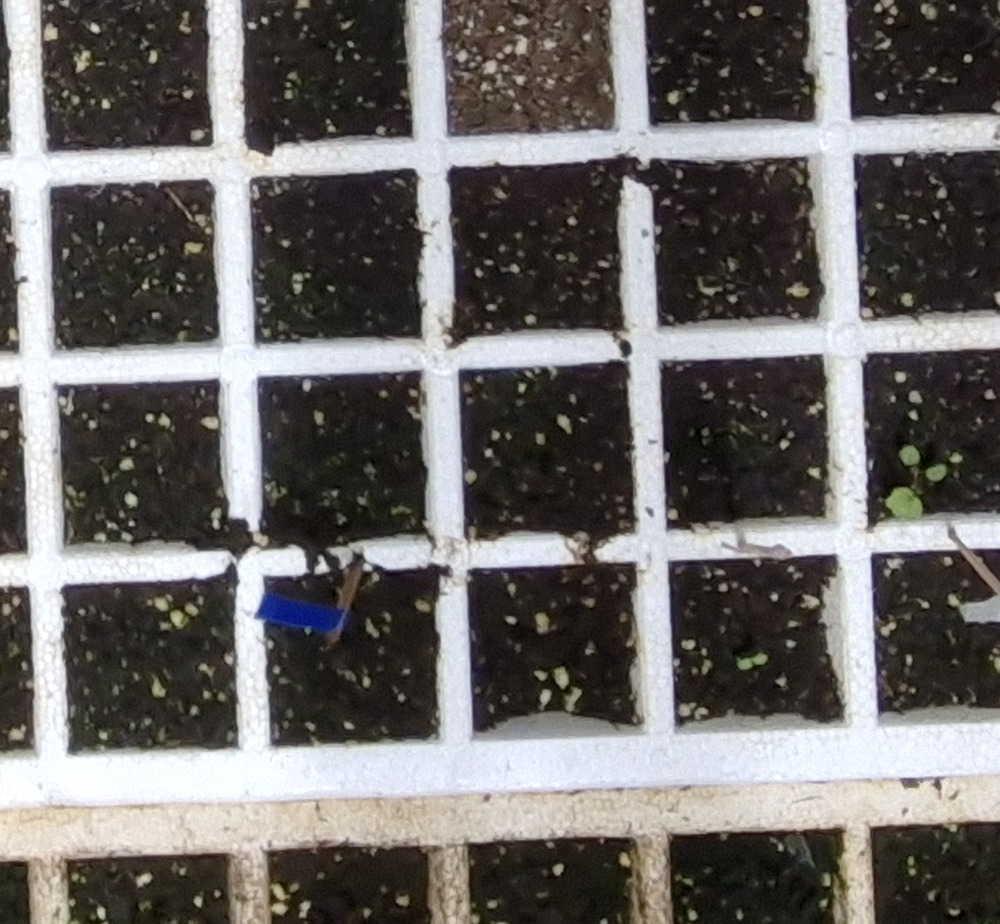Folha: (886, 487, 923, 520), (900, 445, 920, 465), (927, 464, 947, 480), (738, 658, 753, 670), (752, 653, 768, 664)
Germinacao: (886, 446, 949, 517), (737, 654, 769, 670)
